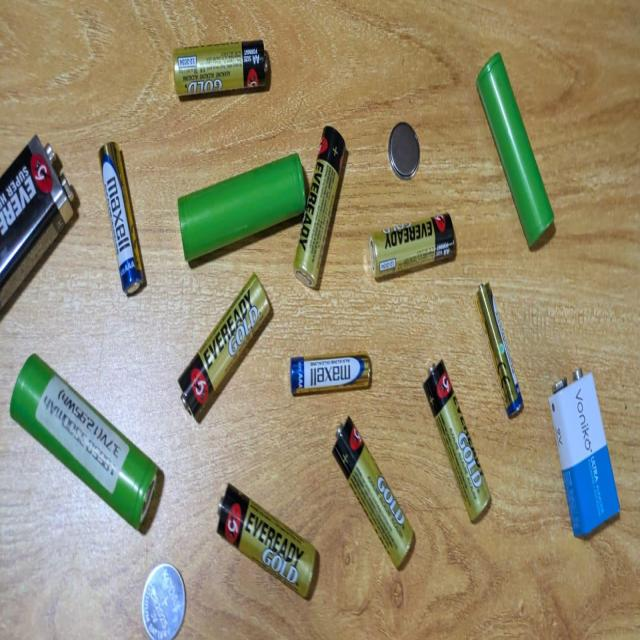9V: (0, 133, 76, 331), (549, 368, 620, 538)
AA: (174, 270, 272, 422), (329, 416, 412, 570), (215, 482, 320, 598), (422, 359, 491, 522), (293, 125, 345, 287), (369, 210, 456, 283), (172, 40, 270, 99)
AAA: (98, 141, 146, 297), (475, 282, 523, 419), (289, 352, 370, 395)
COIN: (140, 562, 186, 639), (387, 122, 421, 182)
